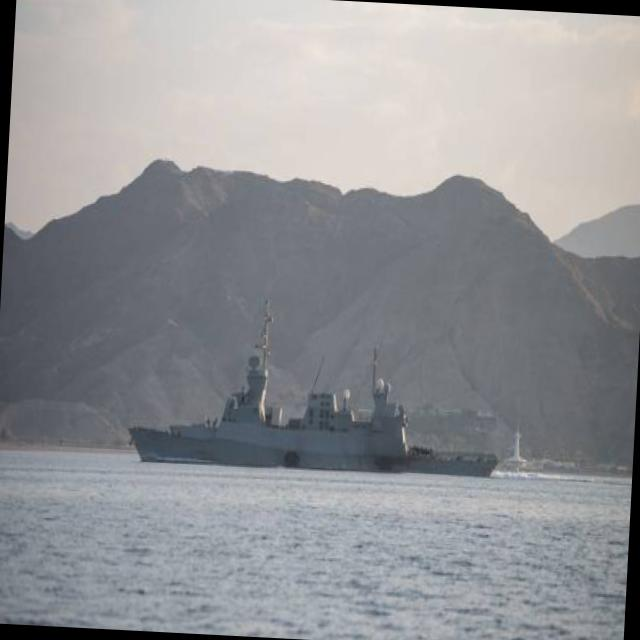Military: (130, 301, 499, 479)
